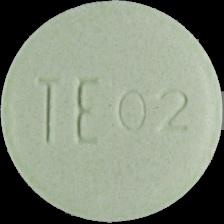53808-0768: (0, 0, 224, 224)
